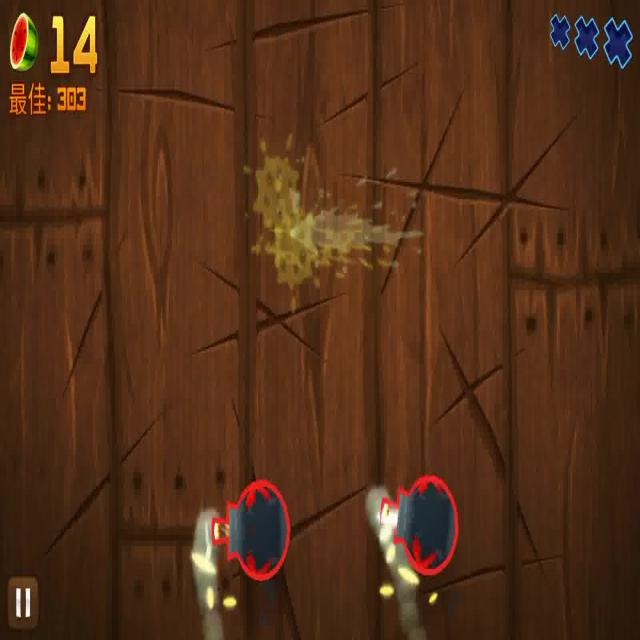bomb: (200, 459, 290, 593), (371, 460, 462, 582)
